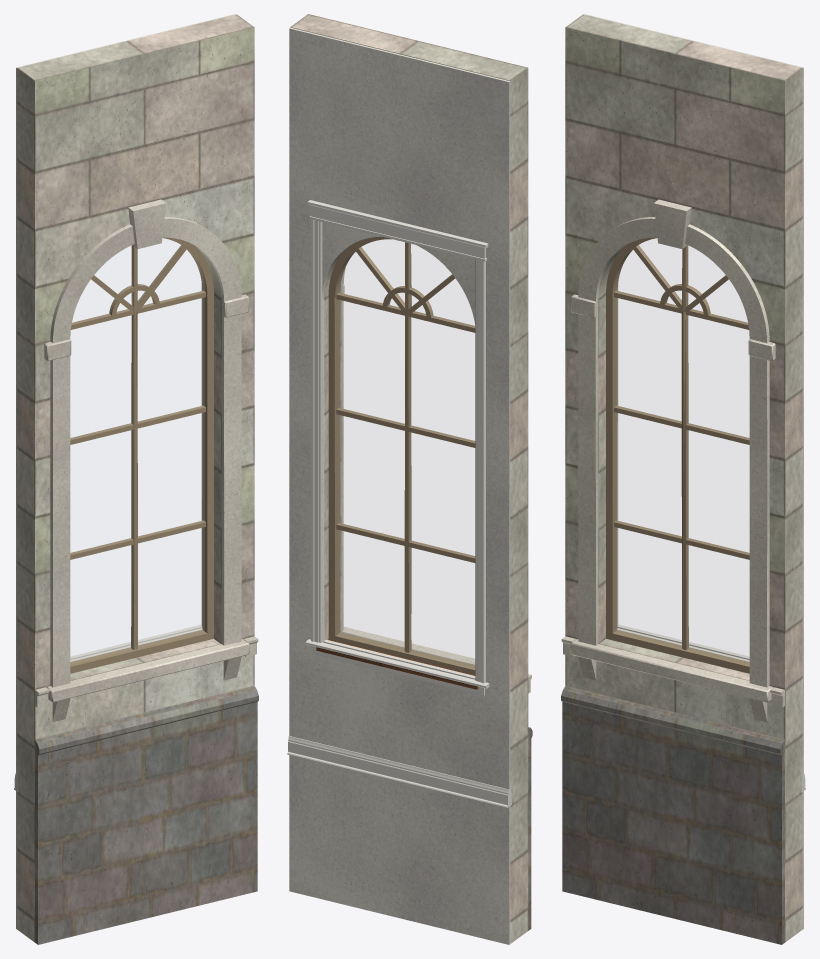
File: s_arch.glb
3 renders of one model, left to right at view 1: azimuth 30°, elevation 25°; view 2: azimuth 150°, elevation 25°; view 3: azimuth 330°, elevation 25°, orthographic.
Parts seen in each view (by area): view 1: s_arch_stone, s_arch_glass, s_arch_granite, s_arch_carve, s_arch_bronze, s_arch_plaster, molduras; view 2: s_arch_plaster, s_arch_glass, s_arch_stone, molduras, s_arch_bronze, s_arch_carve, s_arch_wood, s_arch_granite; view 3: s_arch_stone, s_arch_granite, s_arch_glass, s_arch_carve, s_arch_bronze, s_arch_plaster, molduras.
Part boxes in pixels (x1,y1,x2,y2): s_arch_stone: (17,14,254,942); s_arch_glass: (71,239,204,663); s_arch_granite: (35,685,258,944); s_arch_carve: (35,199,258,721); s_arch_bronze: (70,237,213,673); s_arch_plaster: (16,14,235,929); molduras: (14,284,202,792); s_arch_plaster: (289,27,510,944); s_arch_glass: (338,240,474,667); s_arch_stone: (290,14,528,943); molduras: (287,200,512,807); s_arch_bronze: (328,236,475,674); s_arch_carve: (341,267,531,693); s_arch_wood: (316,639,478,689); s_arch_granite: (528,727,532,930); s_arch_stone: (565,14,802,942); s_arch_granite: (561,685,784,944); s_arch_glass: (615,239,748,663); s_arch_carve: (561,199,784,721); s_arch_bronze: (606,237,749,673); s_arch_plaster: (584,14,803,929); molduras: (617,284,805,792).
Bounding box in the file's own units: 2 × 7.5 × 0.45.
8 materials, 5 textured.
